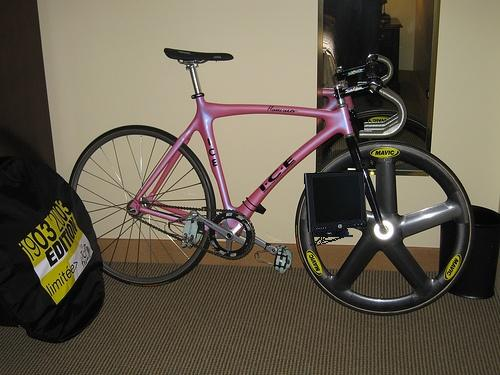tampered: (305, 172, 367, 246)
